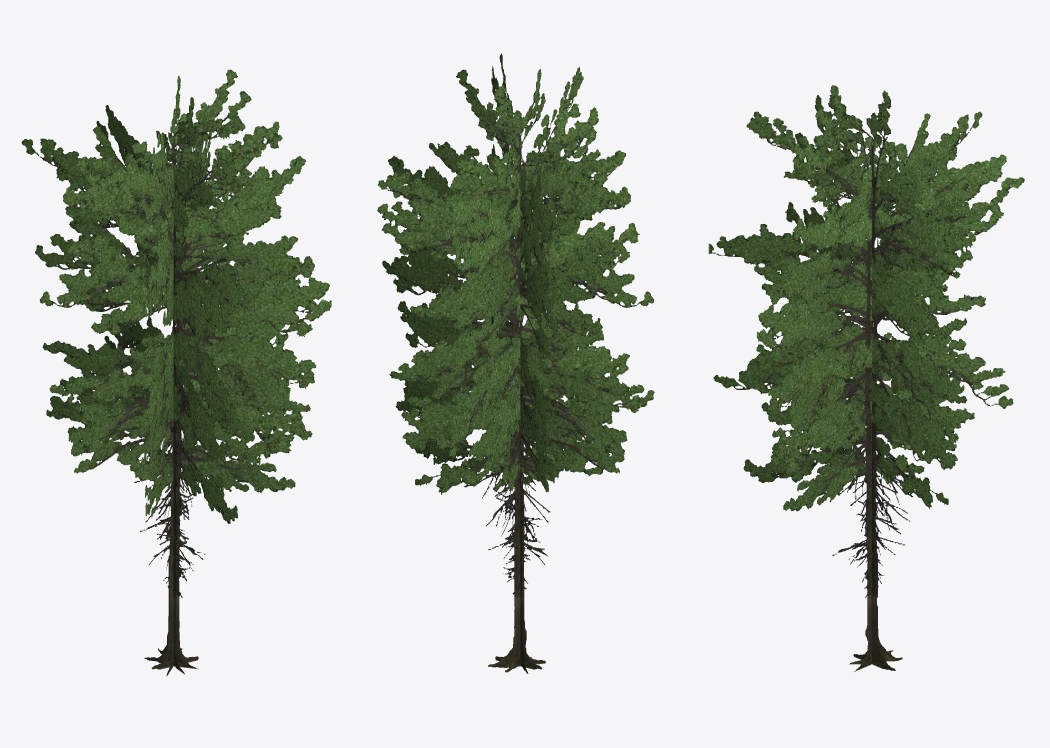
Rendered from pine_b_bb.glb.
3 renders of one model, left to right at view 1: azimuth 30°, elevation 25°; view 2: azimuth 150°, elevation 25°; view 3: azimuth 270°, elevation 25°, orthographic.
Visible parts, largest first — view 1: pine_b_billboard; view 2: pine_b_billboard; view 3: pine_b_billboard.
Part boxes in pixels (box(x1,y1,x2,y2)): pine_b_billboard: box(21, 69, 331, 676); pine_b_billboard: box(377, 53, 654, 673); pine_b_billboard: box(708, 85, 1024, 671).
Bounding box in the file's own units: 7.57 × 14.84 × 7.57.
1 material, 1 textured.
